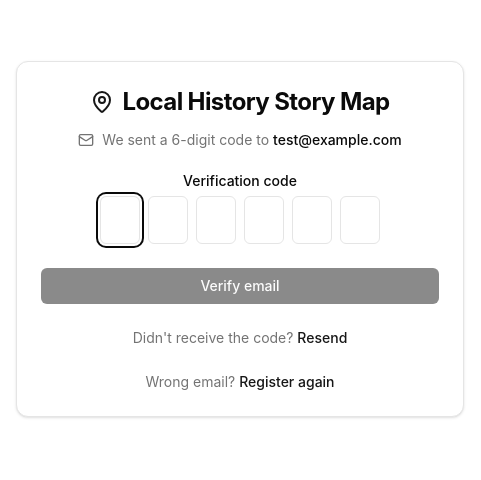
Scenario: VerifyEmailPage › shows resend option when code is expired
Type keys "123456"
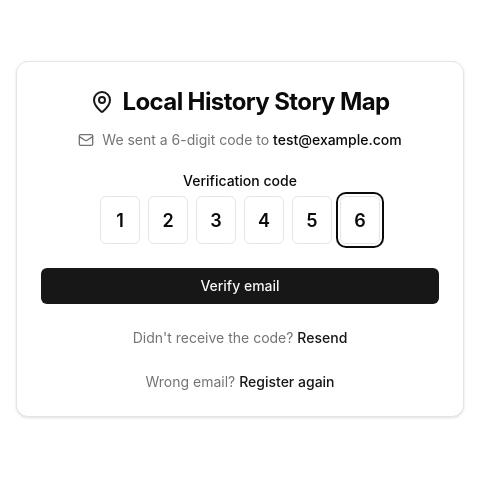
Click the button "Verify email" at (240, 286), box [41, 268, 439, 304]
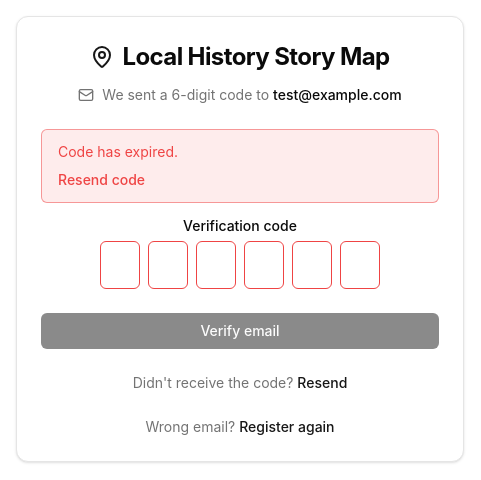
Expected: the button "Resend code" is shown, [58, 170, 145, 190]
